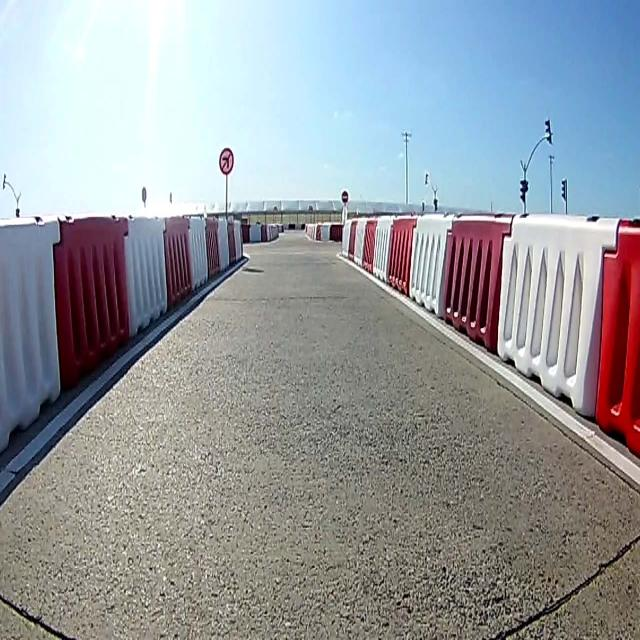girisyok: (340, 186, 348, 202)
soladonulmez: (218, 147, 235, 174)
